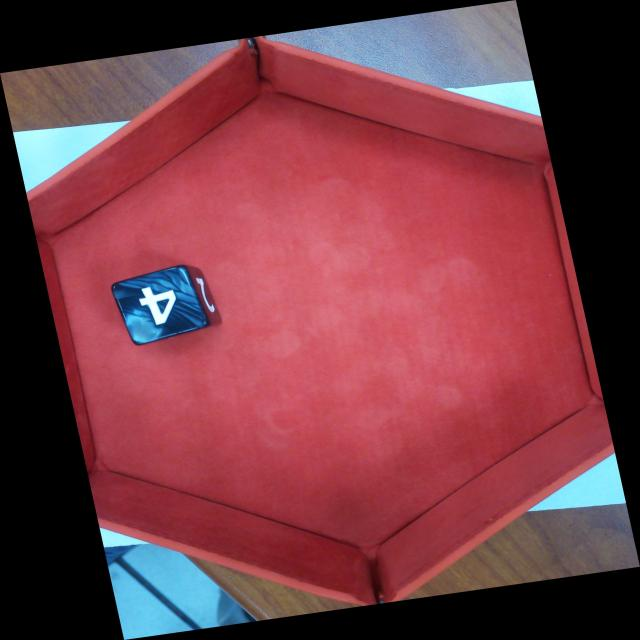dice: (108, 264, 211, 347)
